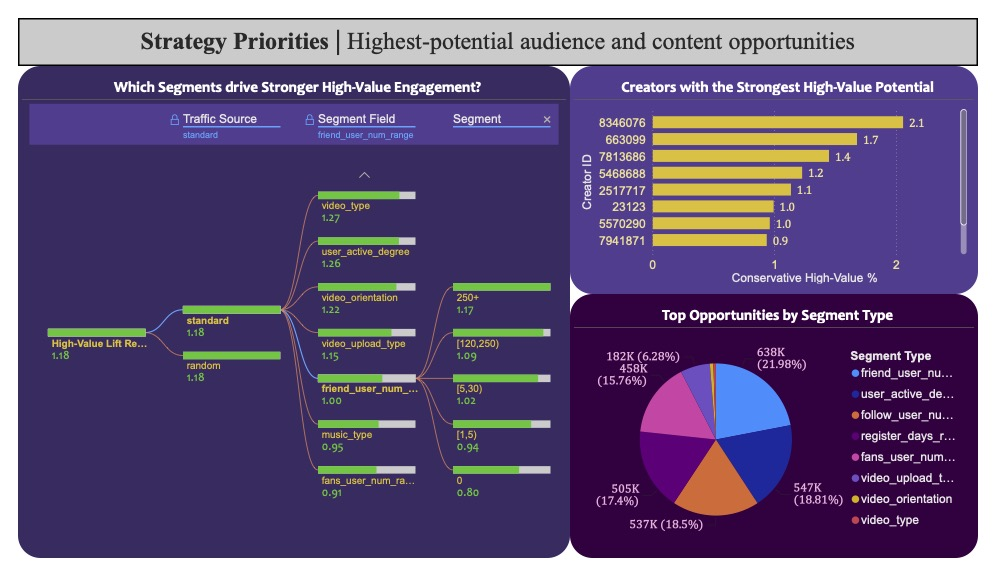

The dashboard page shown, as its layout file describes it:
{"tool":"powerbi","page":{"name":"Strategy Priorities","canvas":[1280,720],"ordinal":4},"visuals":[{"type":"textbox","box":[0,0,1280,64],"z":0},{"type":"decompositionTreeVisual","title":"Which Segments drive Stronger High-Value Engagement?","fields":{"Analyze":["Avg(priority_segment_opportunities.high_value_engagement_rate_lift_within_traffic_source)"],"ExplainBy":["priority_segment_opportunities.traffic_source","priority_segment_opportunities.segment_field","priority_segment_opportunities.segment_value"]},"box":[0,64,736,656],"z":1000},{"type":"clusteredBarChart","title":"Creators with the Strongest High-Value Potential","fields":{"Category":["creator_priority_summary.creator_user_id"],"Y":["Avg(creator_priority_summary.high_value_engagement_rate_lower_bound_percent)"]},"box":[736,64,544,304],"z":2000},{"type":"pieChart","title":"Top Opportunities by Segment Type","fields":{"Y":["Sum(priority_segment_opportunities.impression_count)"],"Series":["priority_segment_opportunities.high_value_engagement_rate_confidently_above_traffic_source"],"Category":["priority_segment_opportunities.segment_field"]},"box":[736,368,544,352],"z":3000}]}

Visuals, with their boxes in screenshot pixels (x1, y1, x2, y2), scaled from the page's 1280x720 canvas onto the 996x576 screenshot:
textbox: (x1=0, y1=0, x2=995, y2=51)
"Which Segments drive Stronger High-Value Engagement?" decompositionTreeVisual: (x1=0, y1=51, x2=573, y2=575)
"Creators with the Strongest High-Value Potential" clusteredBarChart: (x1=573, y1=51, x2=995, y2=294)
"Top Opportunities by Segment Type" pieChart: (x1=573, y1=294, x2=995, y2=575)
